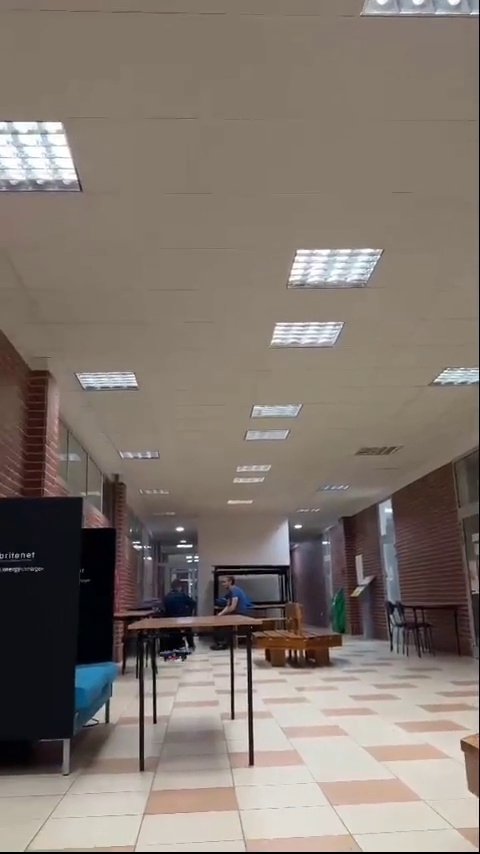drone: (158, 649, 193, 663)
no vest: (165, 582, 200, 619), (215, 574, 248, 613)
